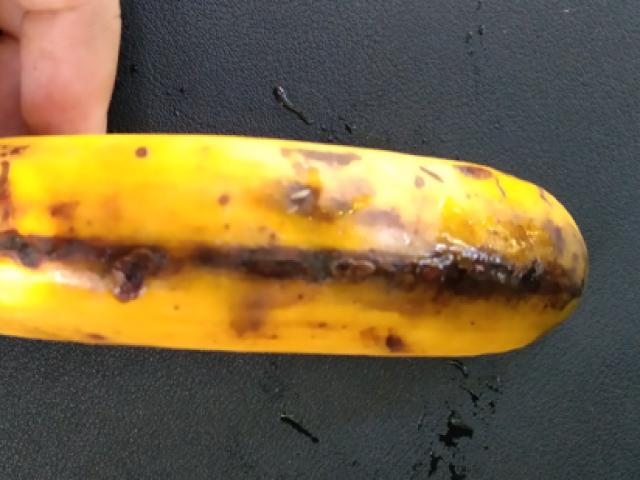overripe: (0, 83, 617, 404)
